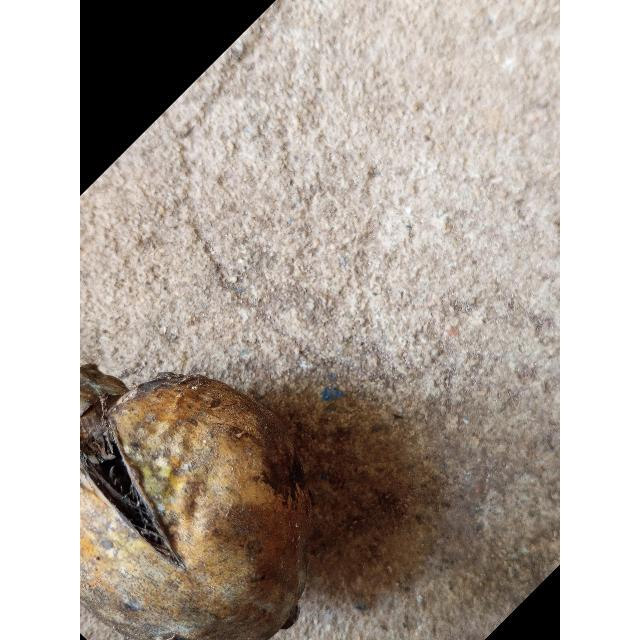damaged: (80, 366, 311, 640)
